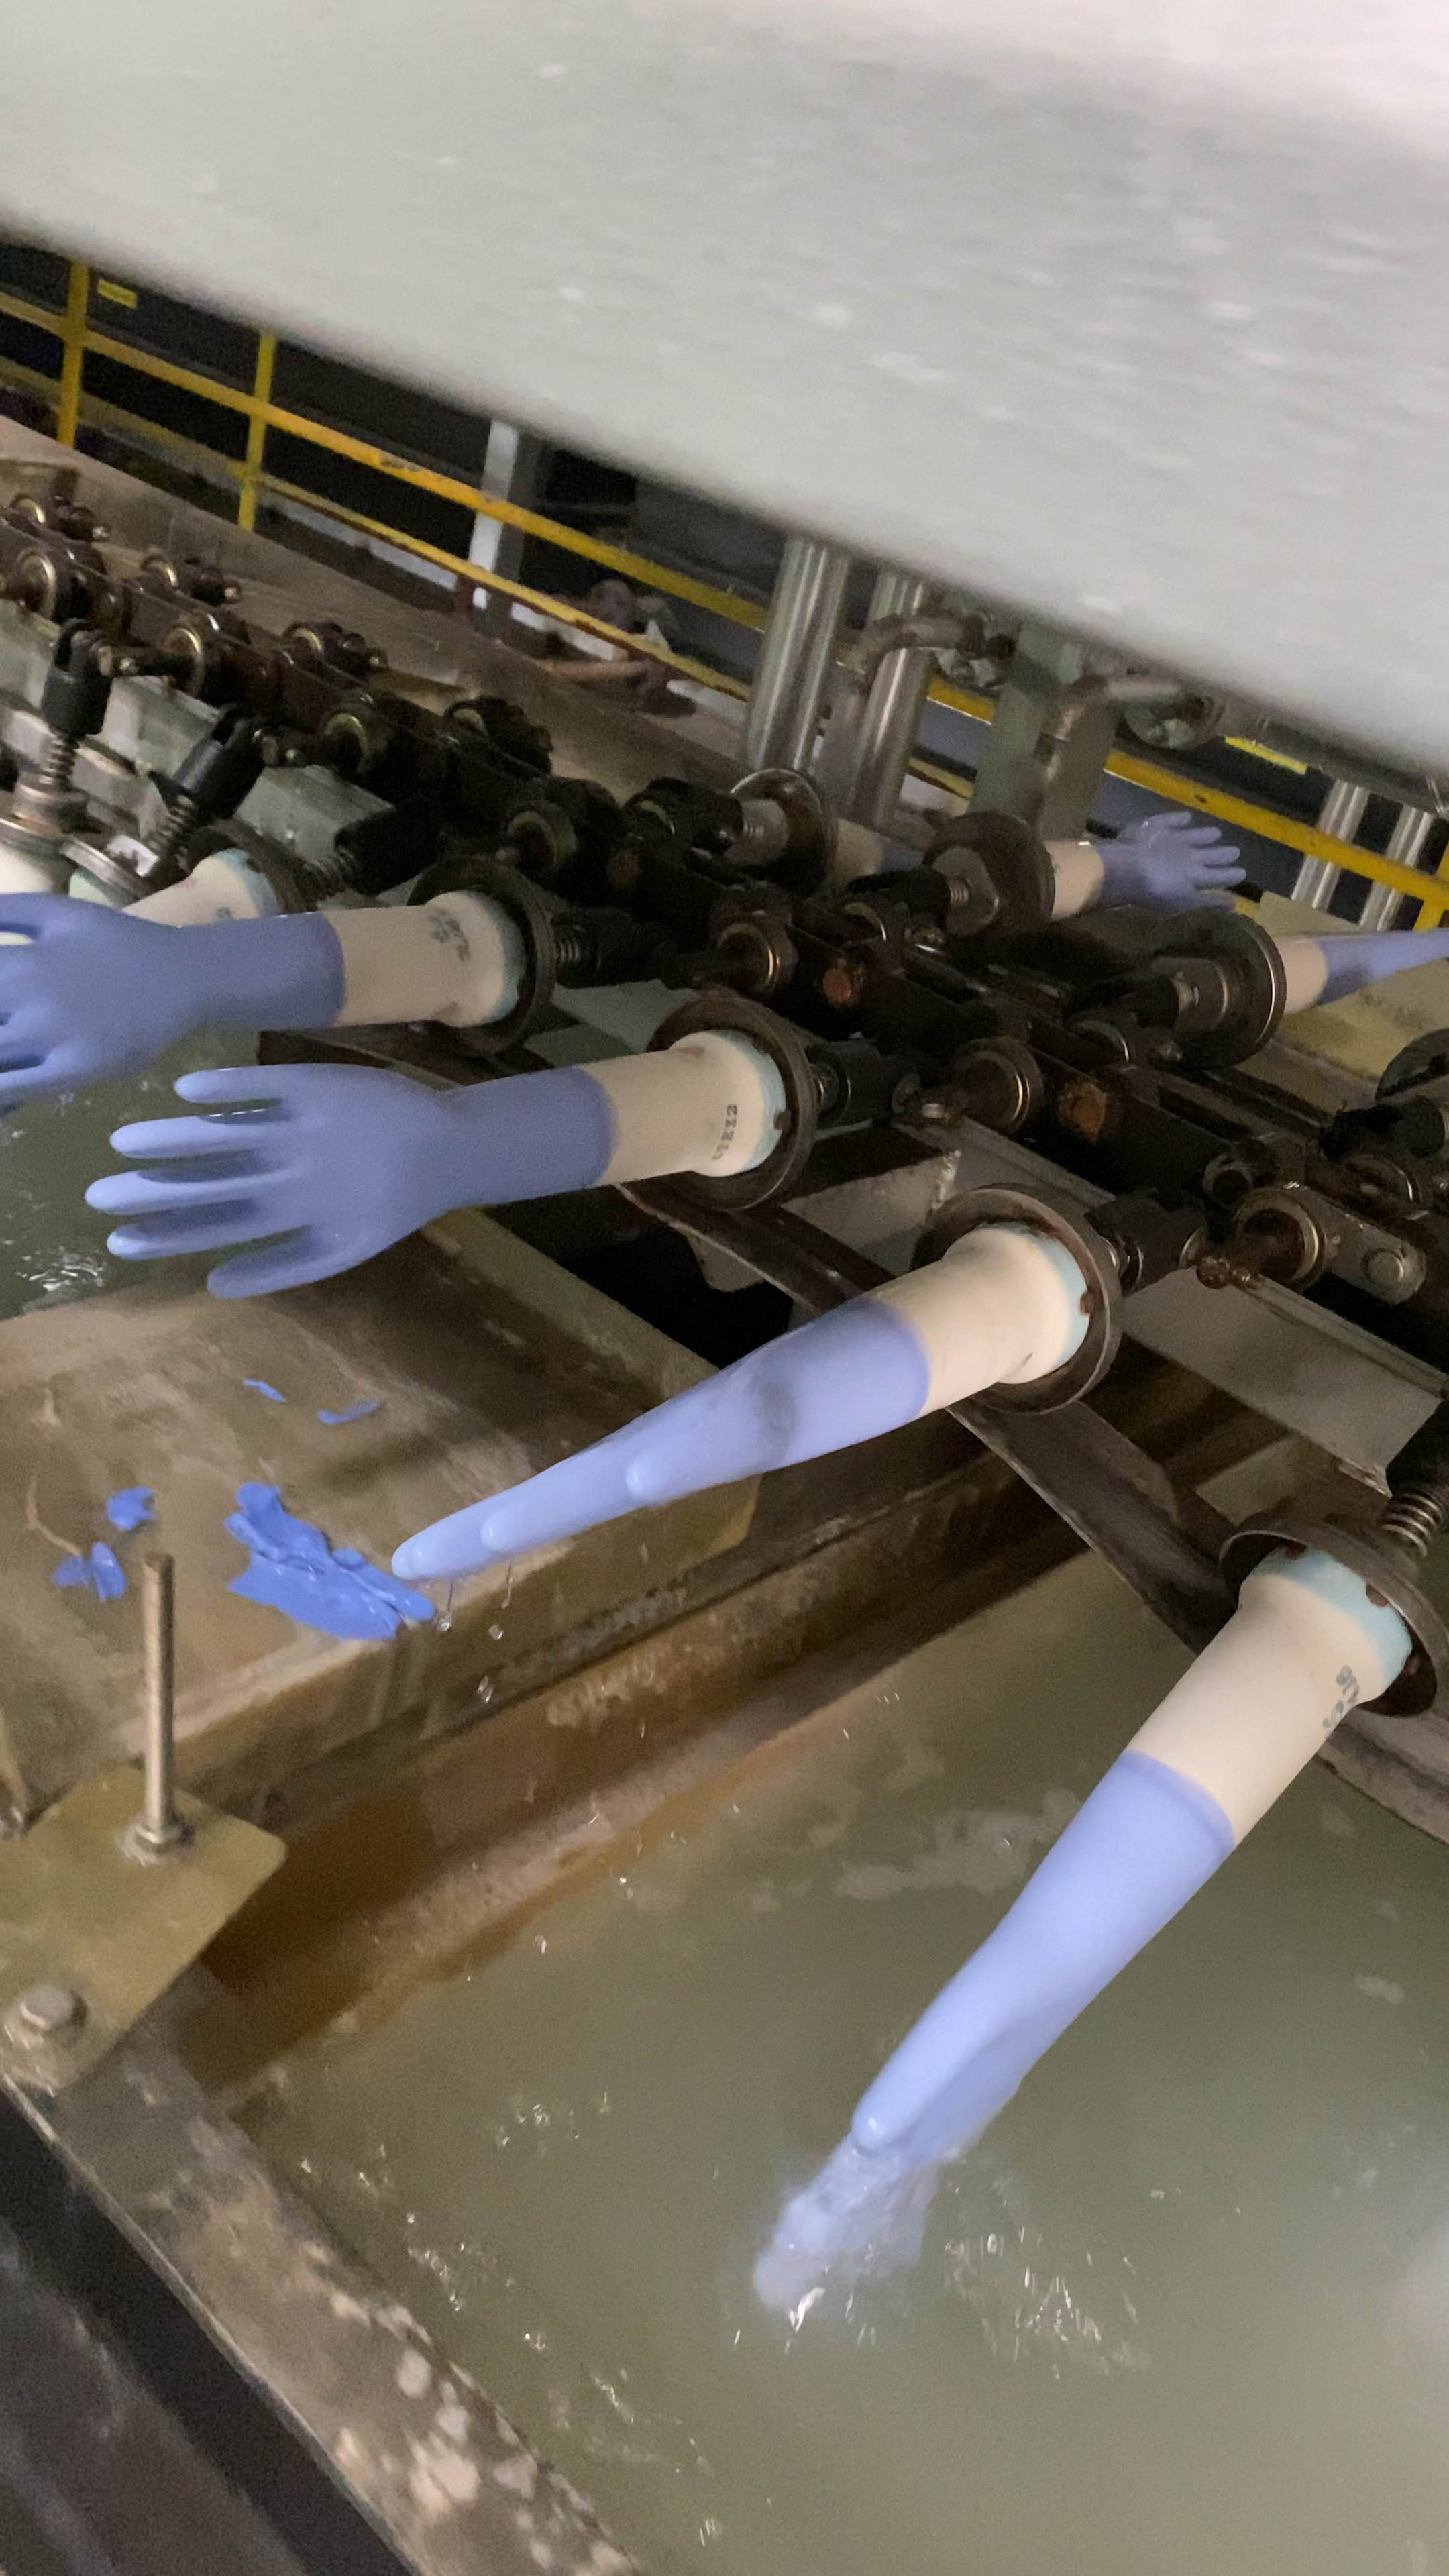glove: (754, 1752, 1235, 2311), (391, 1297, 927, 1580), (85, 1065, 616, 1297), (0, 890, 349, 1099), (1086, 805, 1246, 909), (1313, 904, 1449, 1001)
